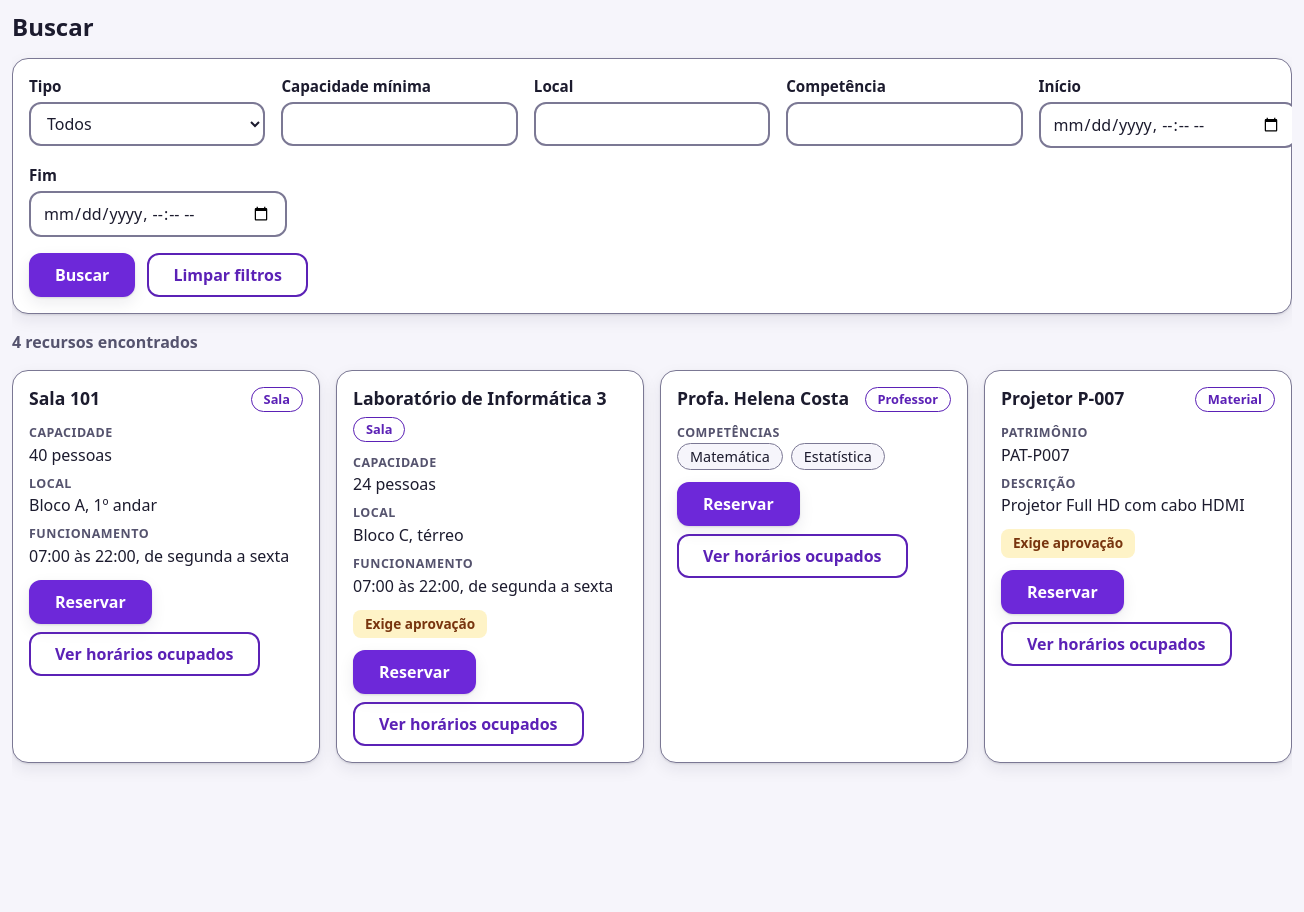
Test: PaginaDeBusca: filtros › depois de Buscar o endereço reflete os filtros, com a hora do campus legível
Expected: the text "4 recursos encontrados" is shown, [12, 331, 198, 353]
Select "Sala" in the dropdown labelled "Tipo" at [147, 124], box [29, 102, 265, 146]
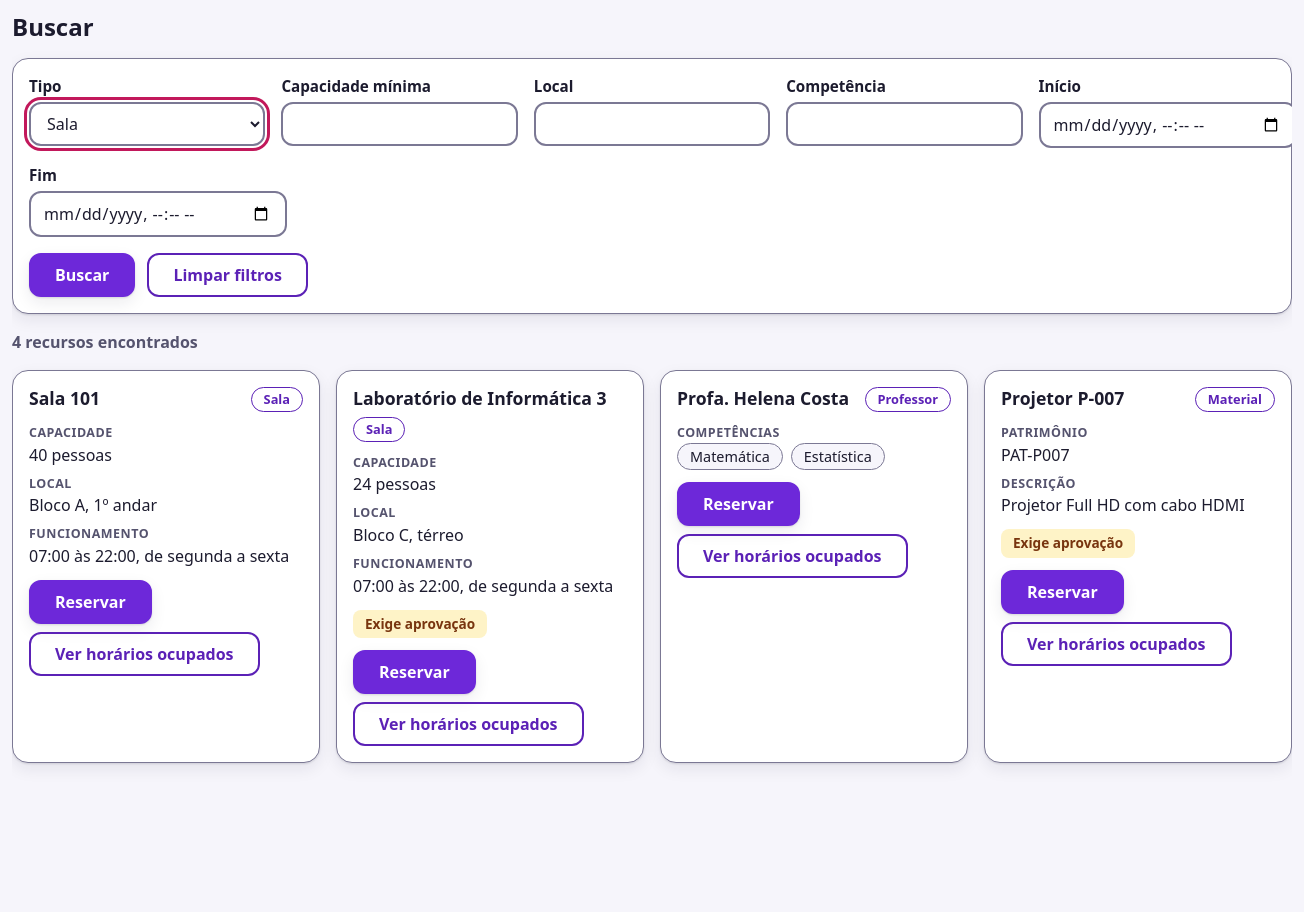
Type "2026-10-21T14:00" into the field labelled "Início".
click(1165, 125); type("2026-10-21T14:00")  # box [1039, 102, 1292, 148]
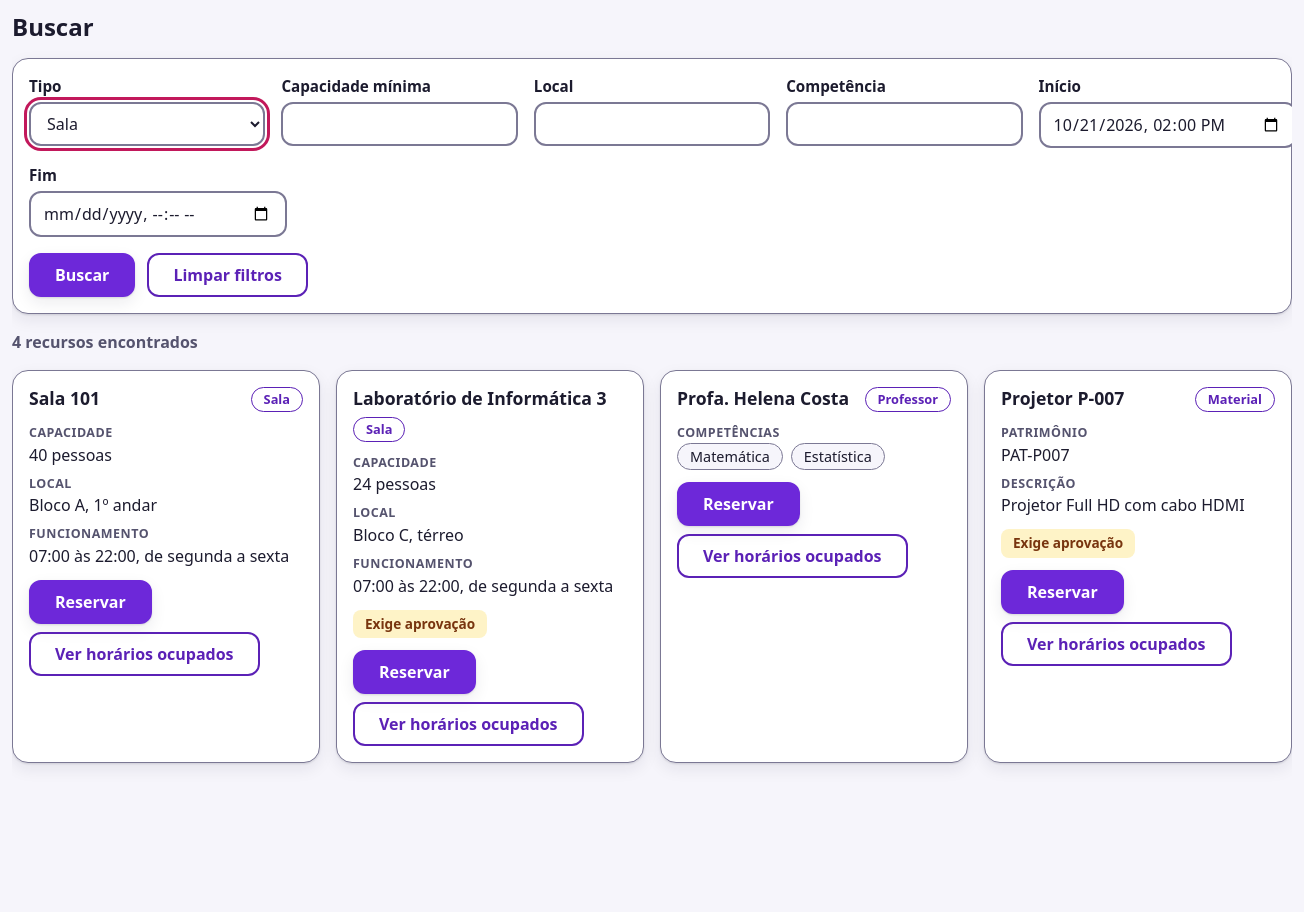
Type "2026-10-21T16:00" into the field labelled "Fim".
click(158, 214); type("2026-10-21T16:00")  # box [29, 191, 287, 237]
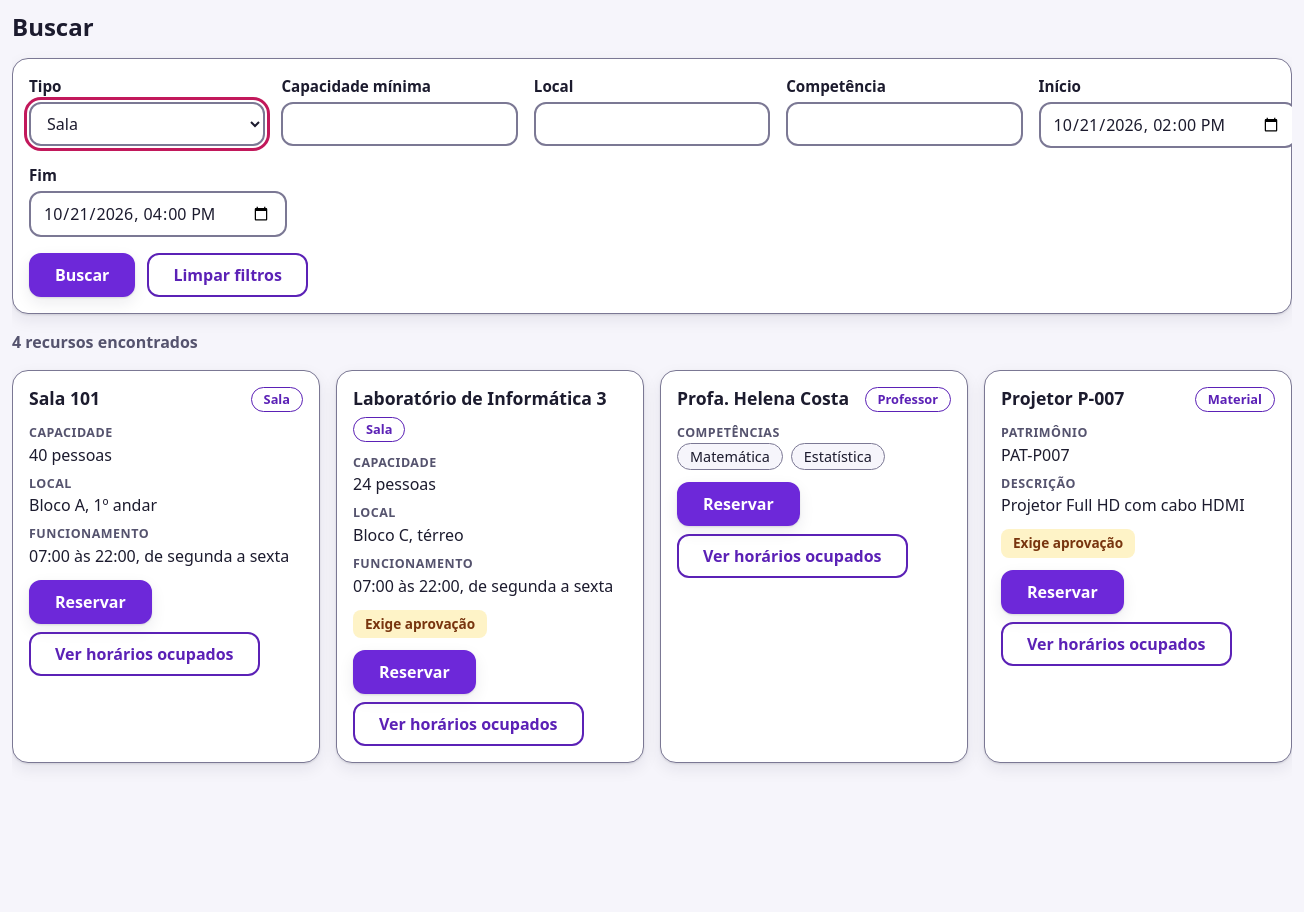
Click the button "Buscar".
click(82, 275)  # box [29, 253, 135, 297]
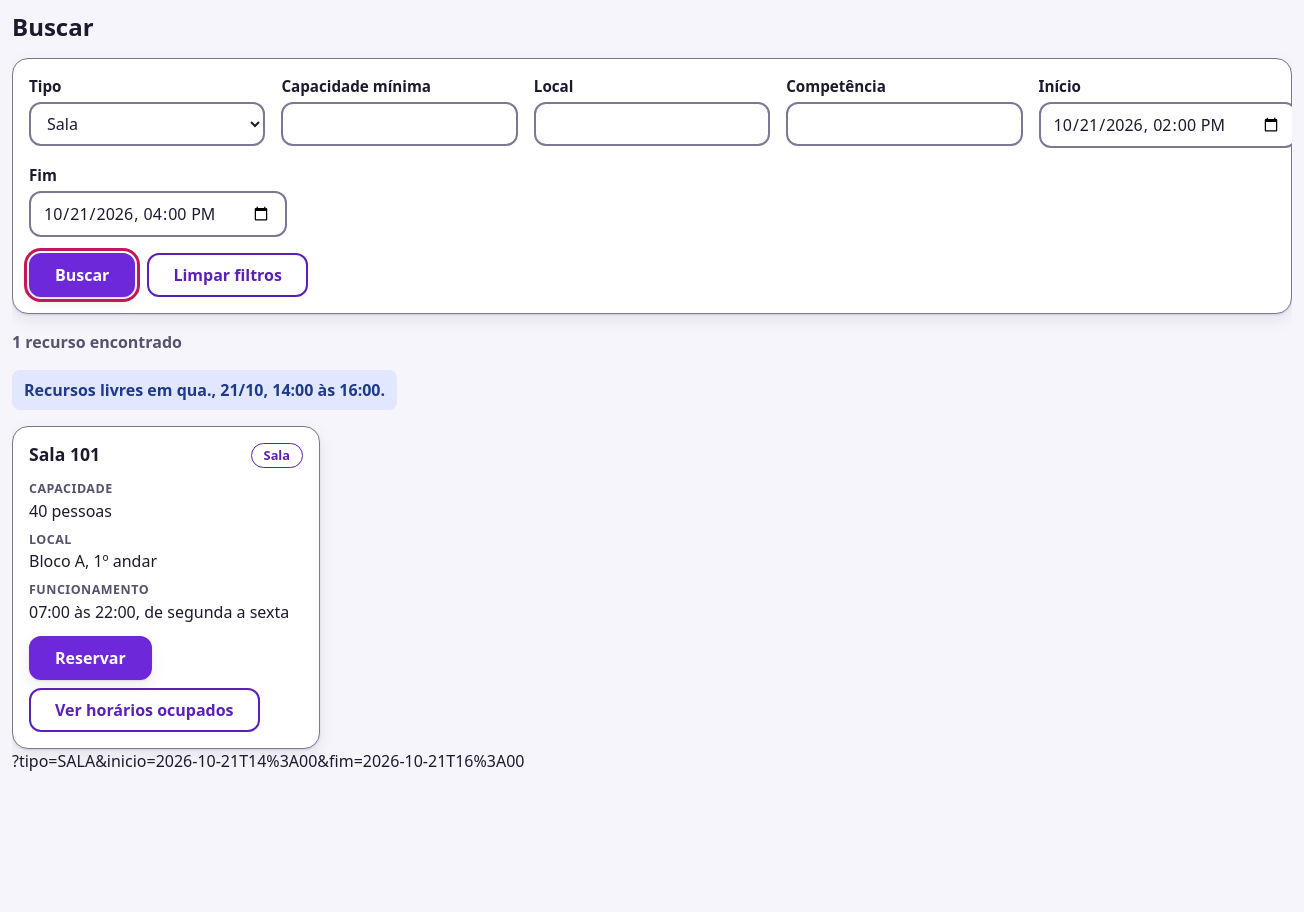
Now the text named "endereço atual" shows "tipo=SALA", box [12, 750, 524, 772]
Now the text named "endereço atual" shows "inicio=2026-10-21T14%3A00", box [12, 750, 524, 772]
